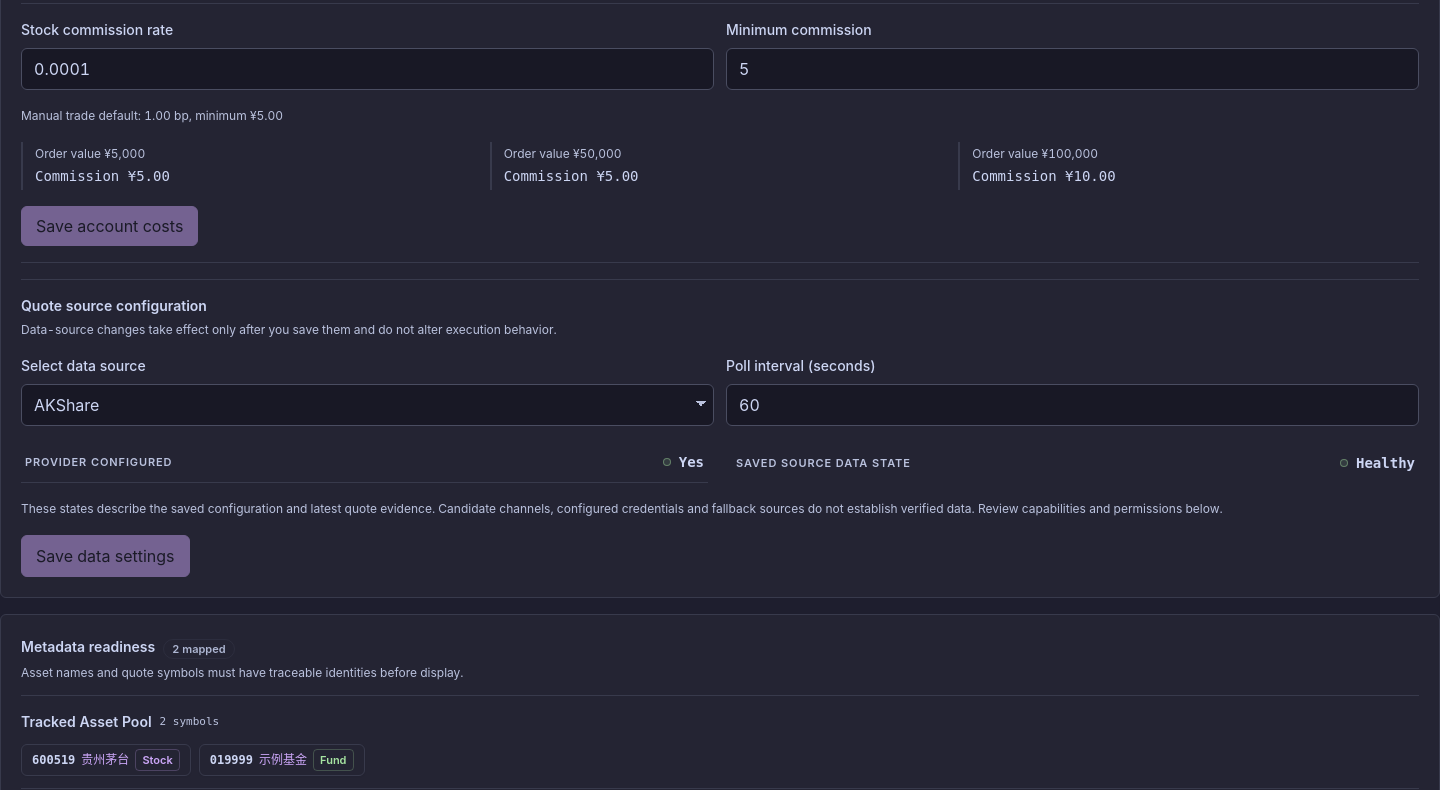
it: restores an editable source and integer poll interval with a narrow save
(page scrolled)
Select "Tushare" in the dropdown labelled "Select data source": (368,405) 21,384 -> 714,426
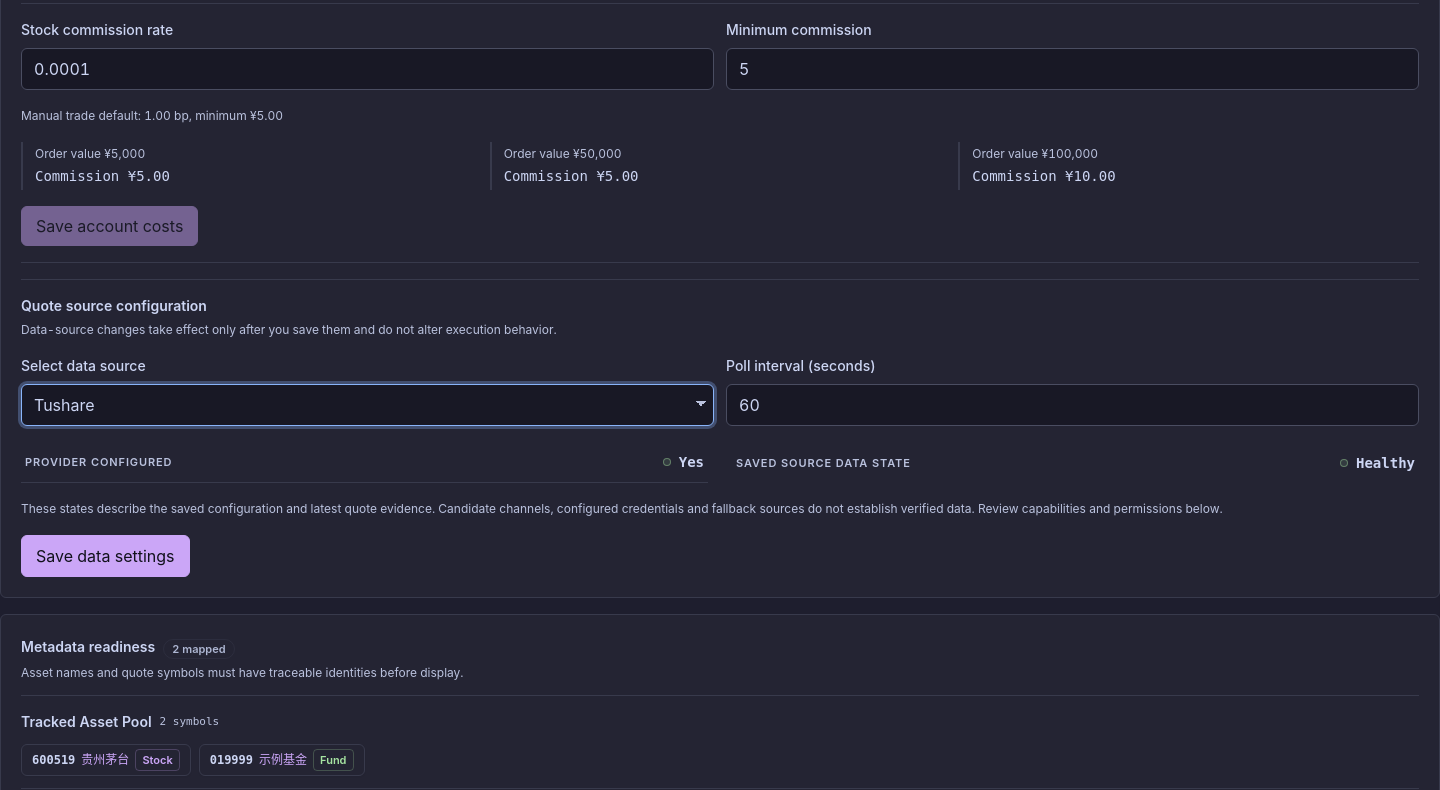
Replace the text in the number field labelled "Poll interval (seconds)" with "120": (1072,405) 726,384 -> 1419,426
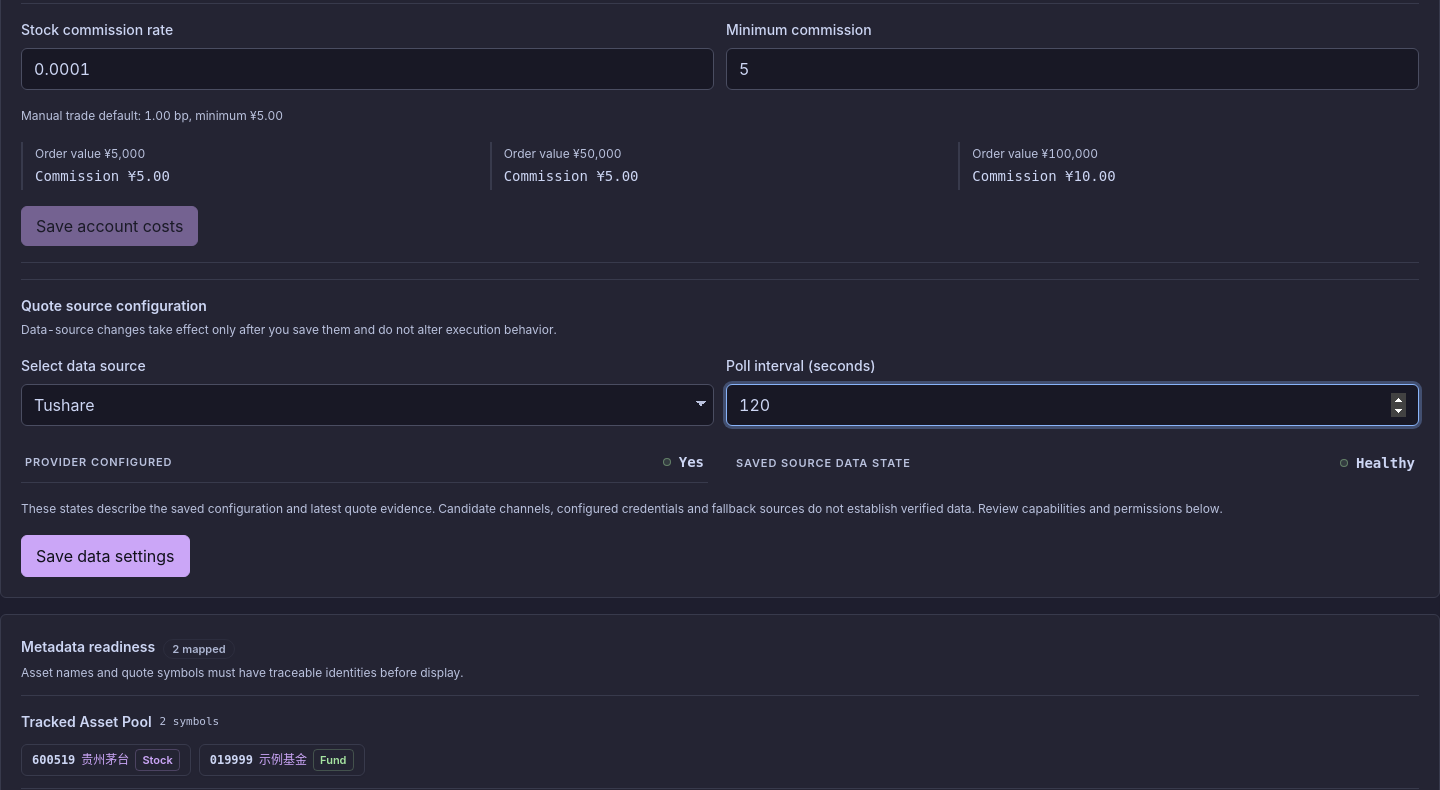
Click the button "Save data settings": (105,556) 21,535 -> 190,577
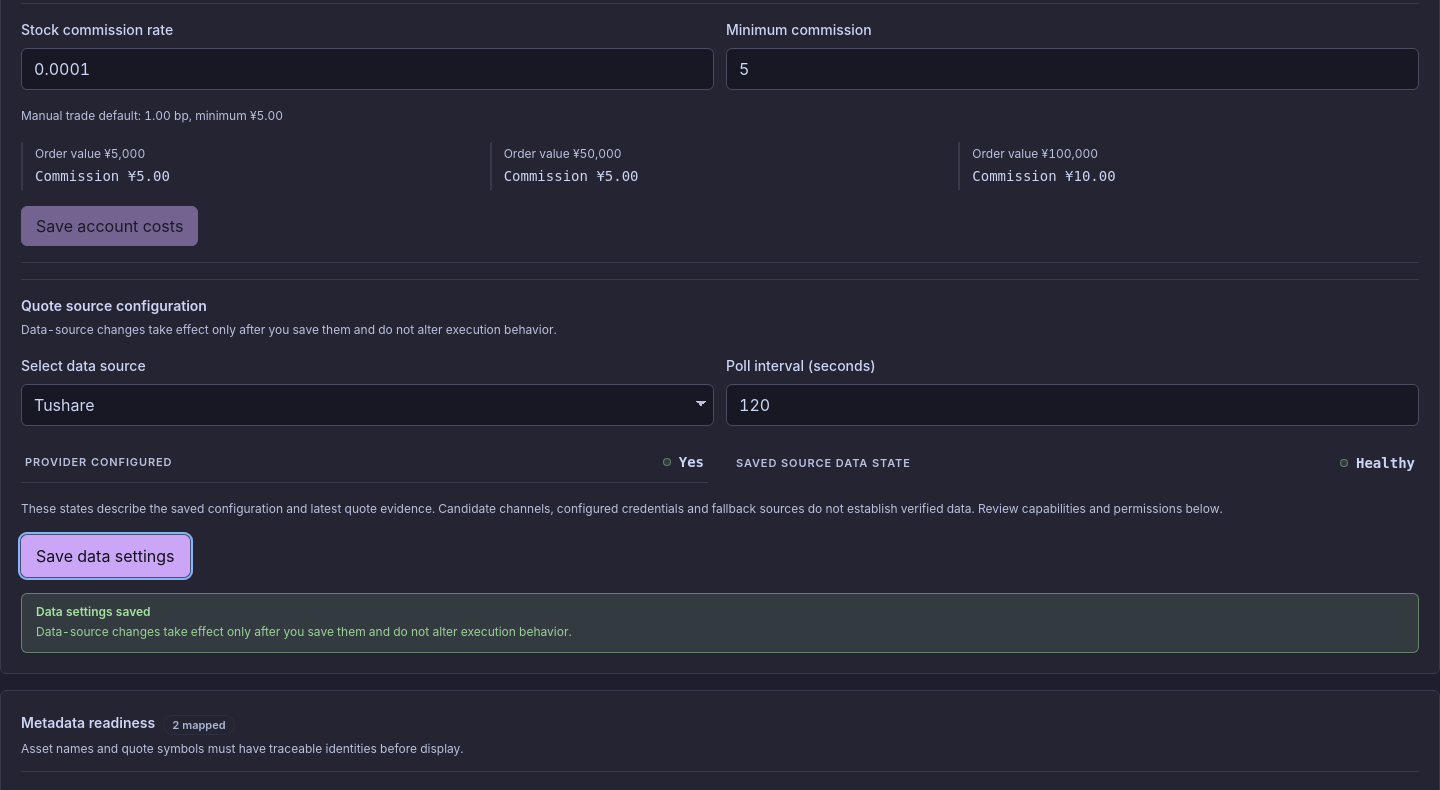
Now the text "Data settings saved" is shown, box 36,604 -> 150,619
